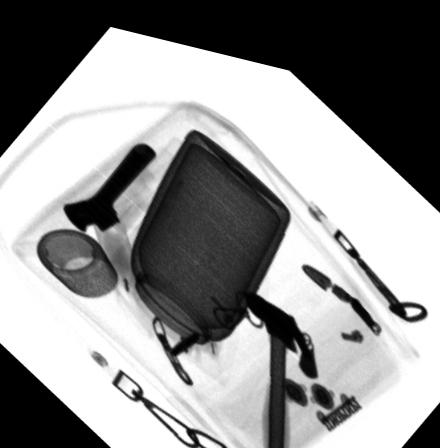Hammer: (242, 277, 314, 448)
Wrench: (63, 133, 155, 227)
